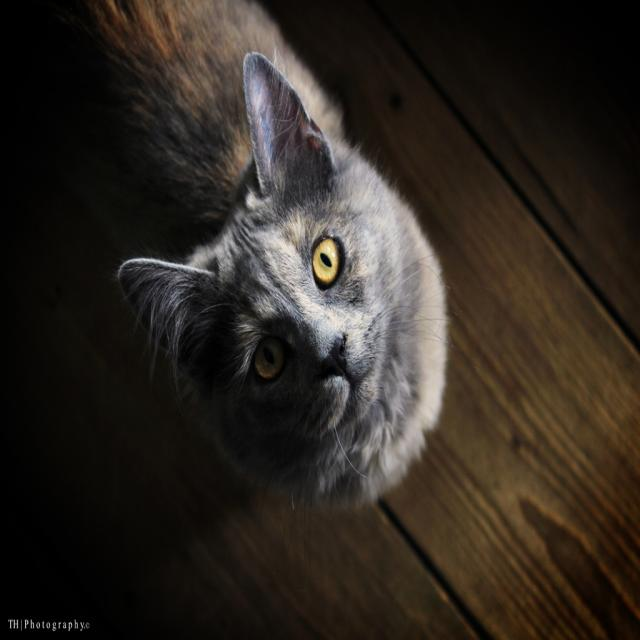Cat: (71, 0, 456, 525)
